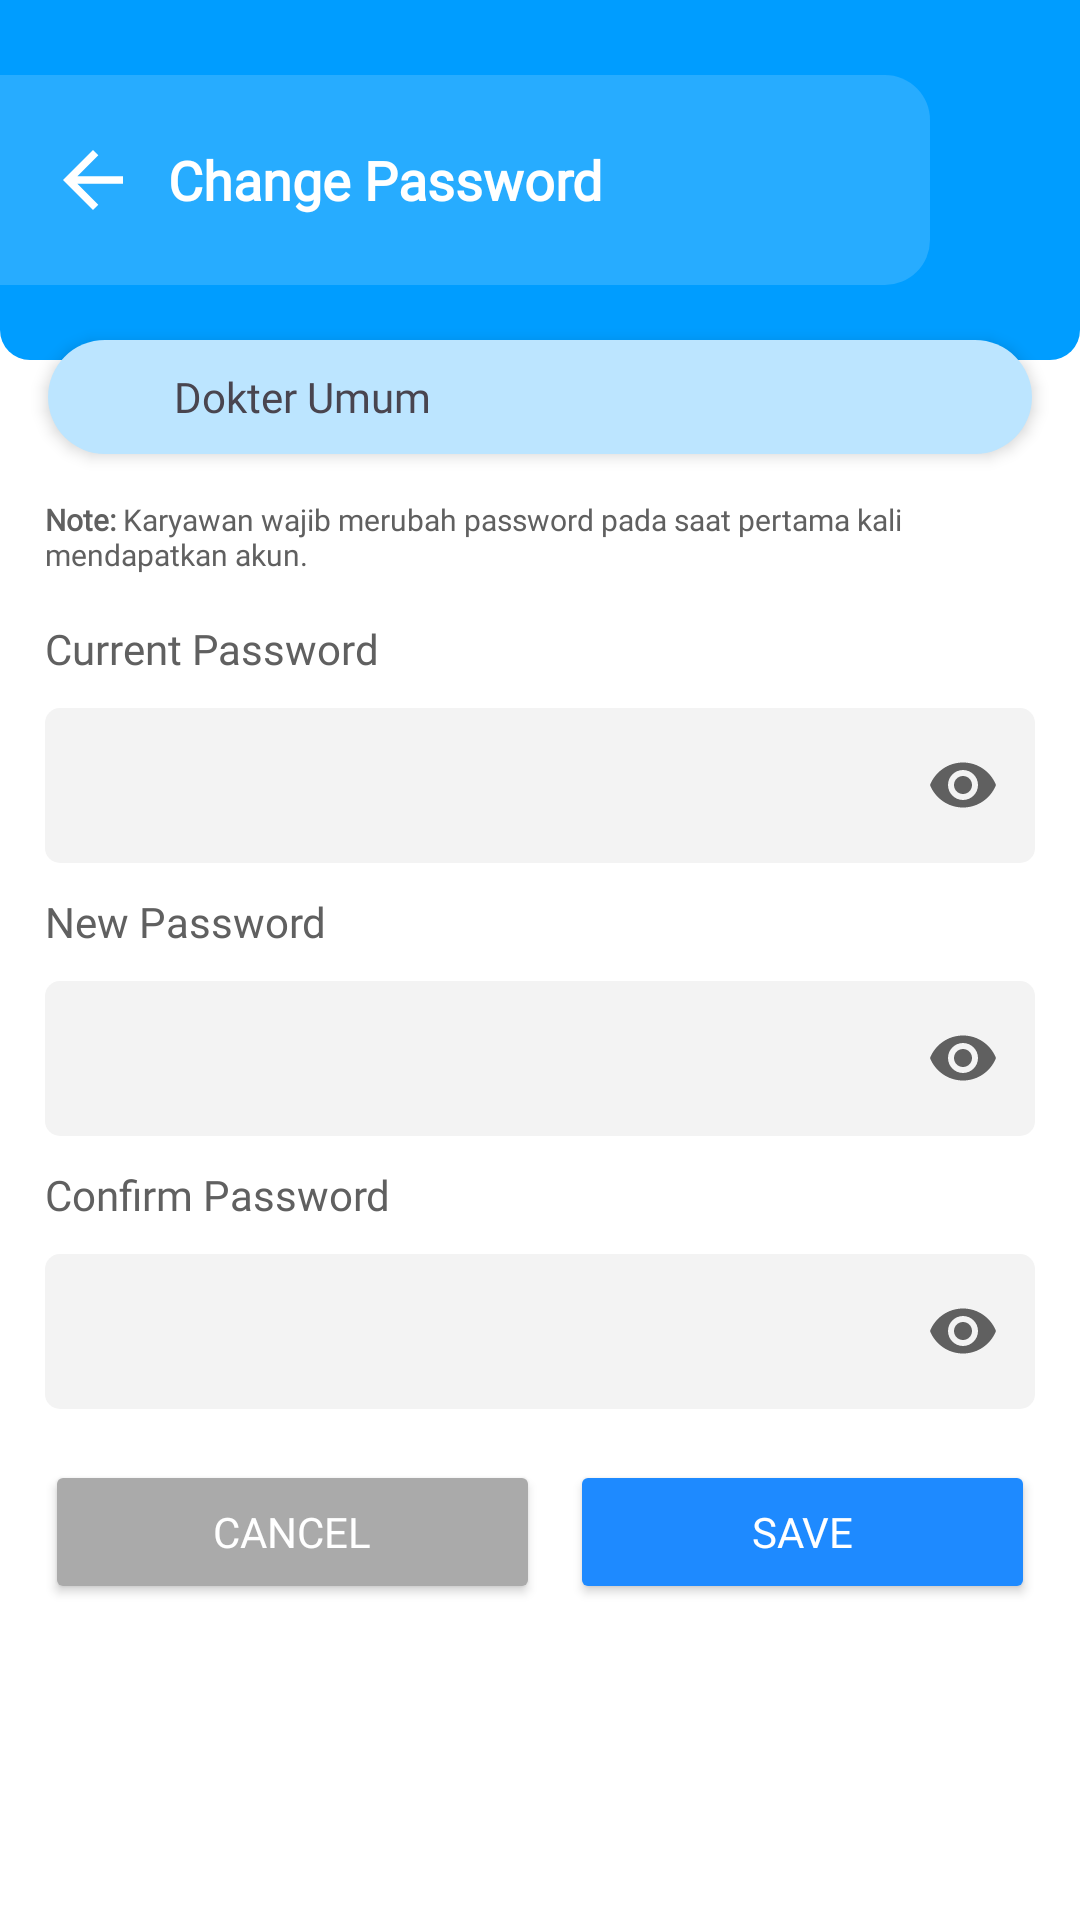

Icon click points for this 1080x1920 phone screenshot, format (x=x, y=y):
Back: (x=93, y=180)
